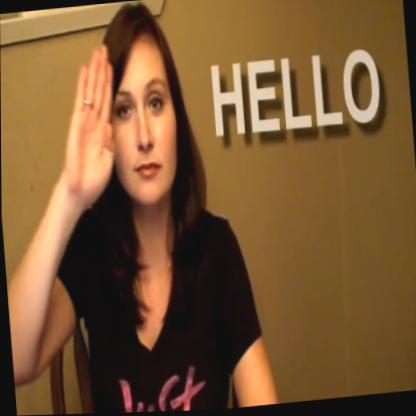Hello: (54, 0, 207, 222)
